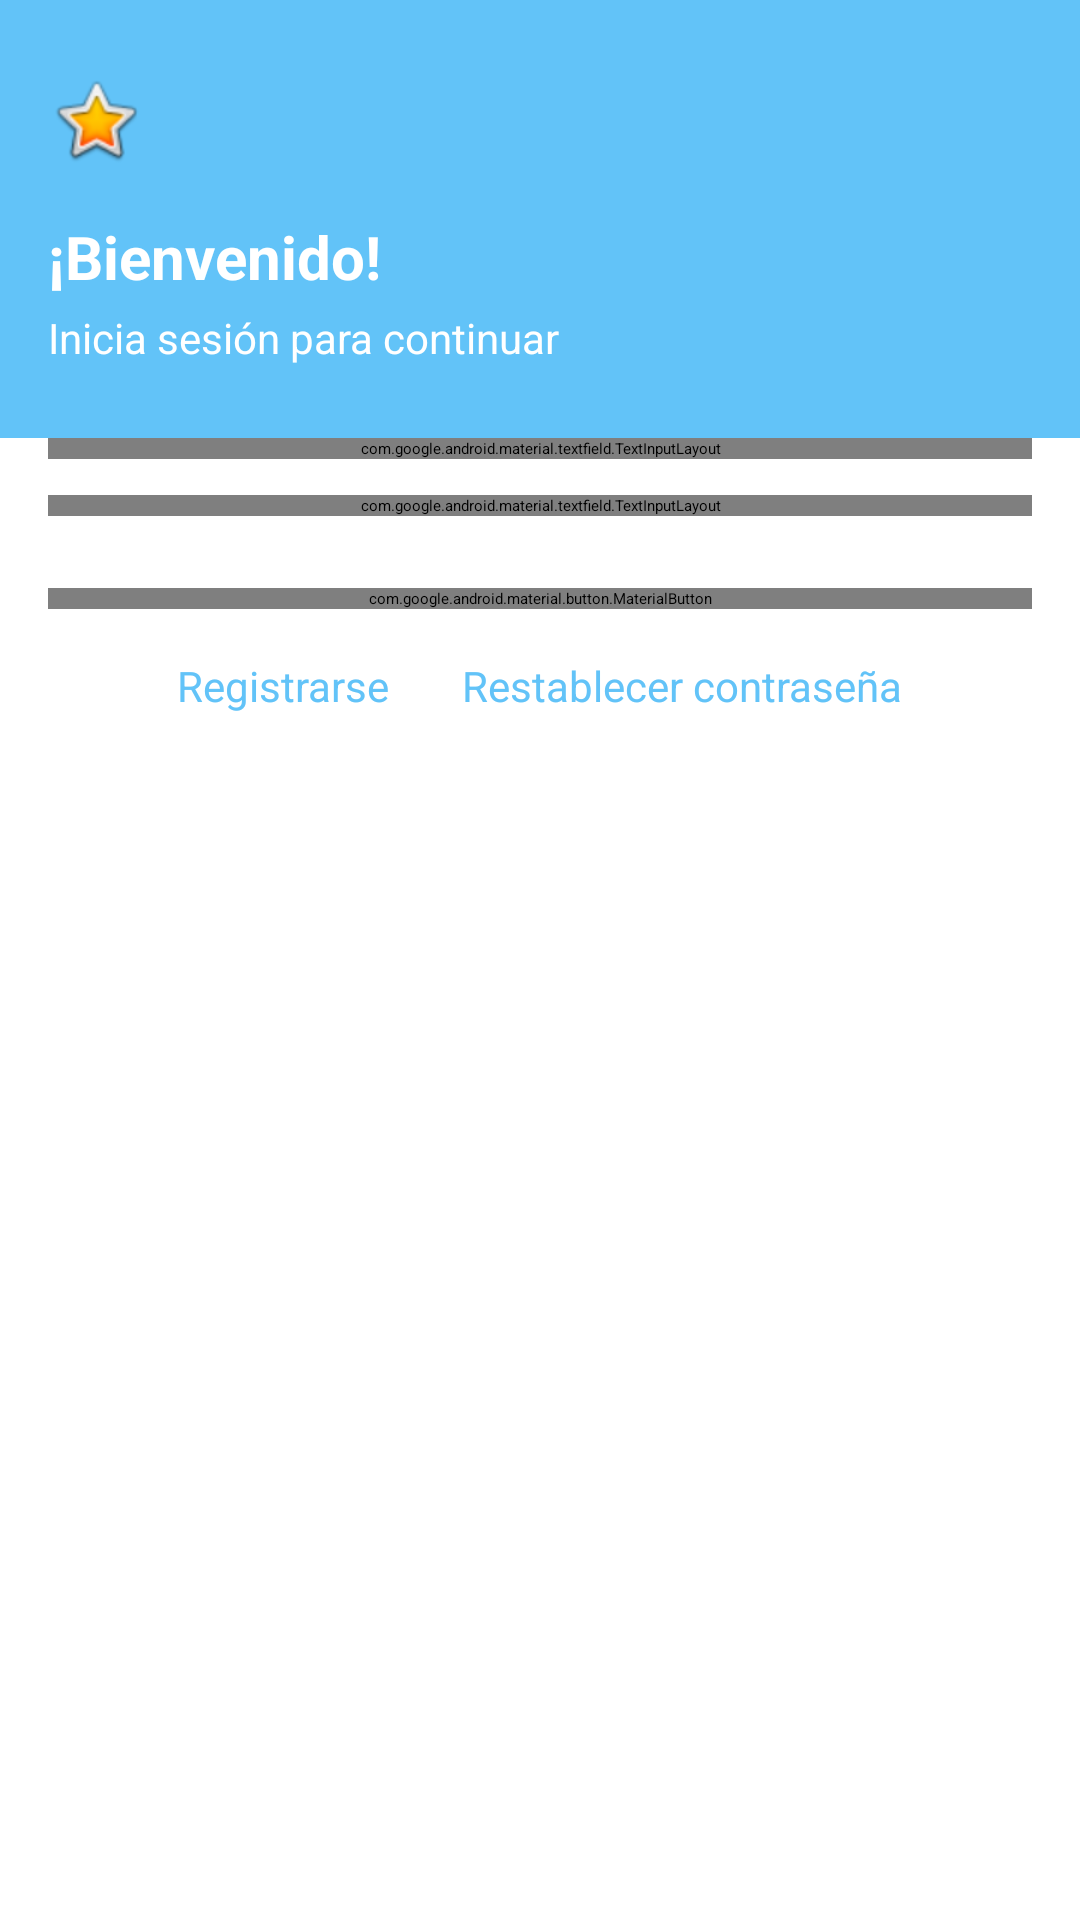

Point at icon controls on the screen. Image size 1080w x 1920h, points as point (x, y).
star on: point (97, 121)
